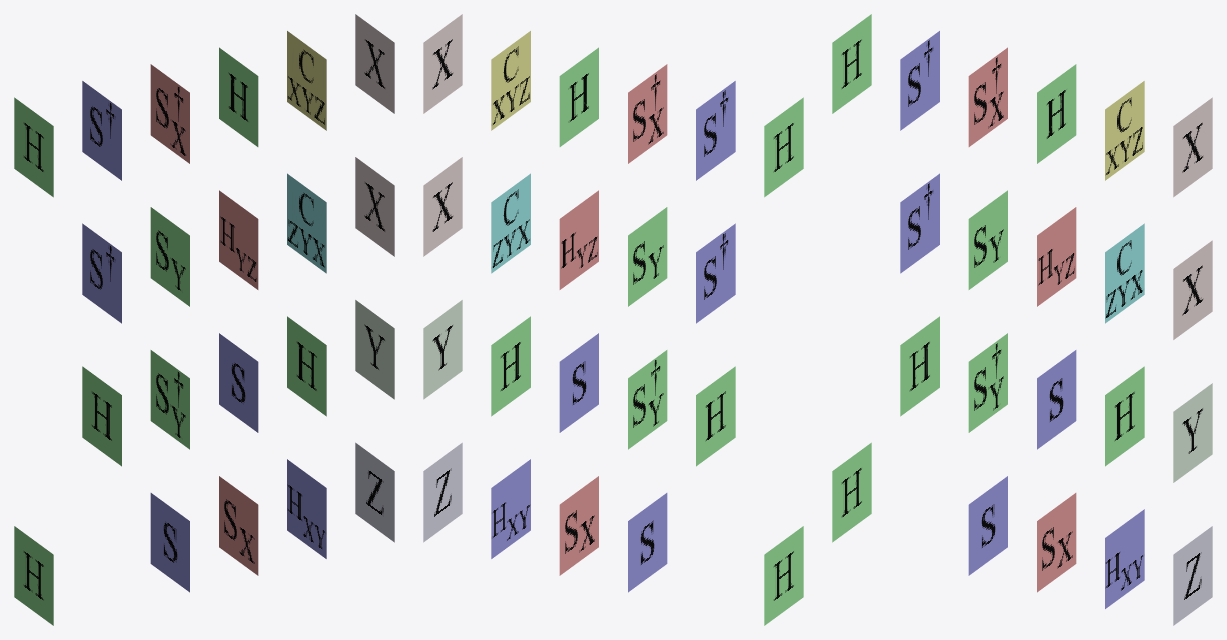
The model's file is single_qubits_gates.gltf.
3 renders of one model, left to right at view 1: azimuth 30°, elevation 25°; view 2: azimuth 150°, elevation 25°; view 3: azimuth 330°, elevation 25°, orthographic.
Size of the model in its own units: 5 by 7 by 1.
Materials: 1 (1 with a texture image).
